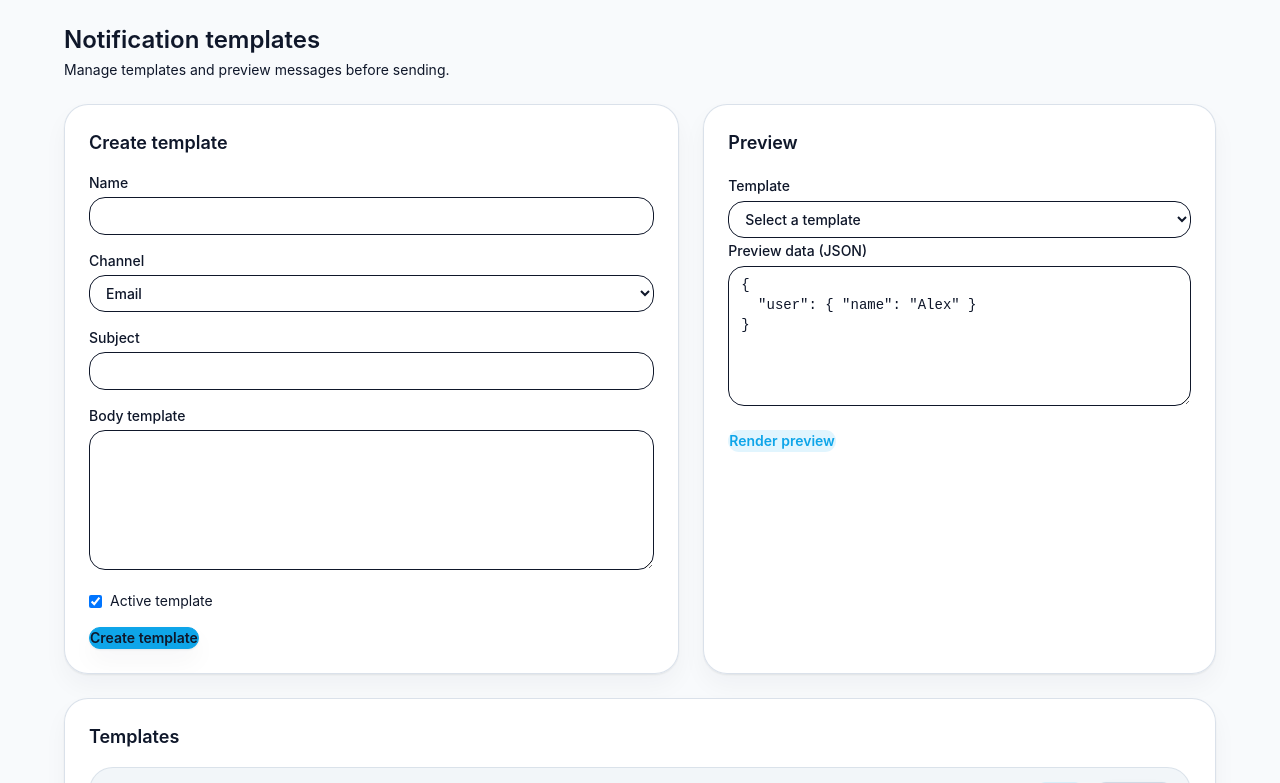
Test: admin notifications page › renders a preview from the selected template
Select "Pool update" in the dropdown labelled "Template": [960, 220] box [728,201,1191,238]
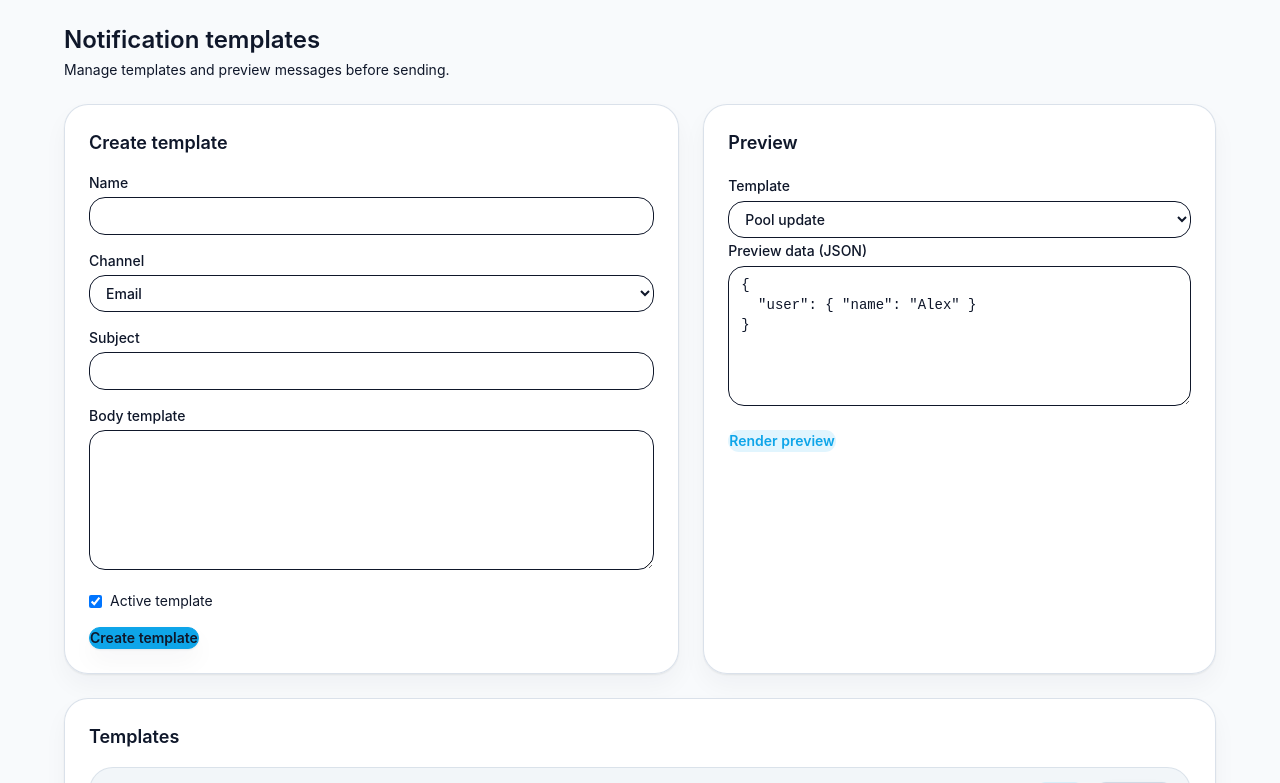
Click the button "Render preview": [782, 441] box [728,430,836,452]
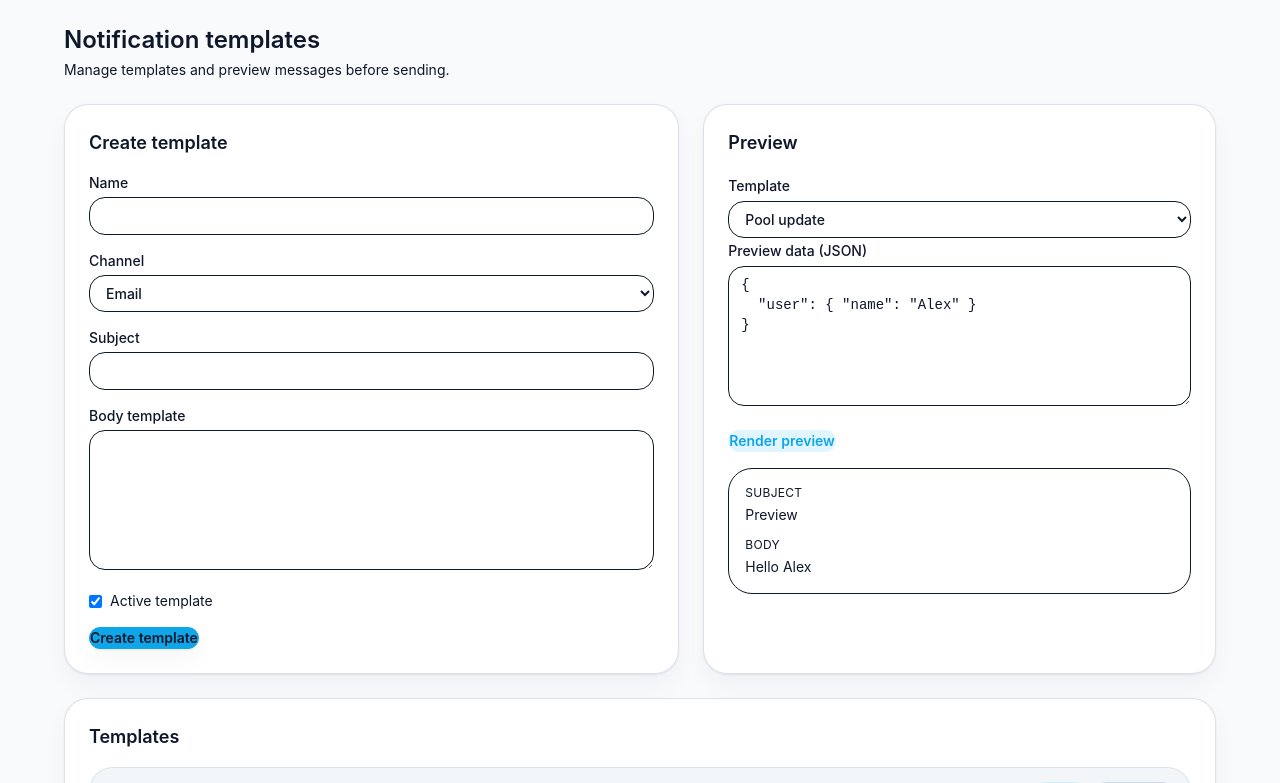
Expected: the heading "Preview" is shown, [728,132,798,153]
Expected: the text "Hello Alex" is shown, [745,558,812,575]
